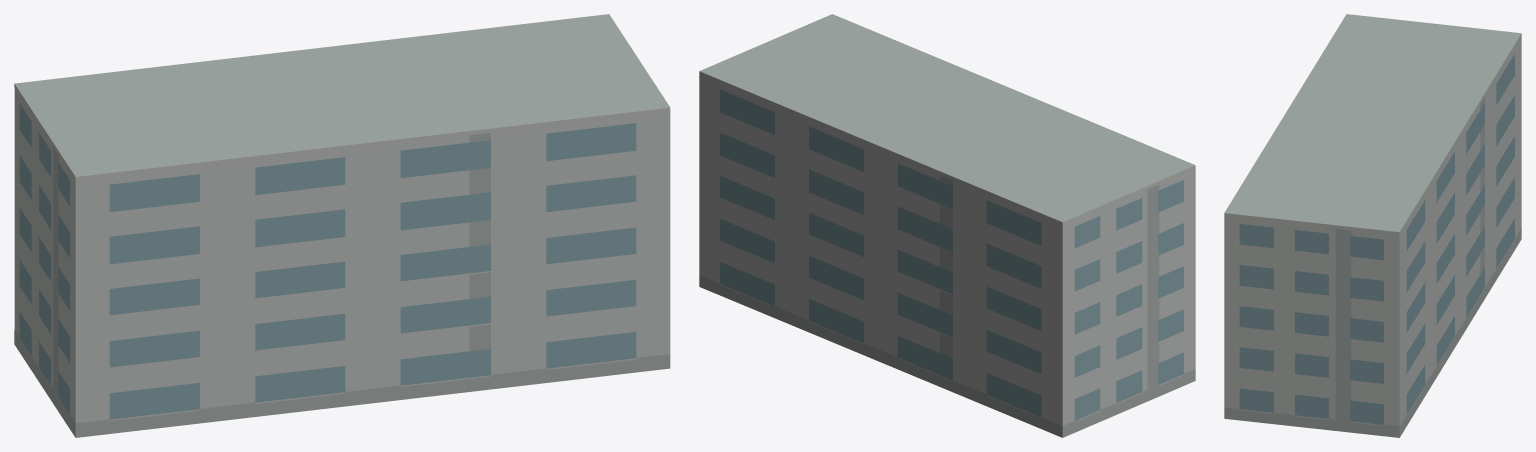
File: residential-91bf0f97-7ffb-4793-a563-30fb3542ec94.glb
3 views of the same model, side by side, from view 1: azimuth 30°, elevation 25°; view 2: azimuth 150°, elevation 25°; view 3: azimuth 270°, elevation 25° (orthographic). The views are drawn at different scales.
Visible parts, largest first — view 1: residential-91bf0f97-7ffb-4793-a563-30fb3542ec94.tmp; view 2: residential-91bf0f97-7ffb-4793-a563-30fb3542ec94.tmp; view 3: residential-91bf0f97-7ffb-4793-a563-30fb3542ec94.tmp.
Part boxes in pixels (x1,y1,x2,y2): residential-91bf0f97-7ffb-4793-a563-30fb3542ec94.tmp: [14, 14, 670, 437]; residential-91bf0f97-7ffb-4793-a563-30fb3542ec94.tmp: [699, 14, 1195, 437]; residential-91bf0f97-7ffb-4793-a563-30fb3542ec94.tmp: [1224, 14, 1521, 437].
Size of the model in its own units: 34.7 by 15.25 by 19.99.
